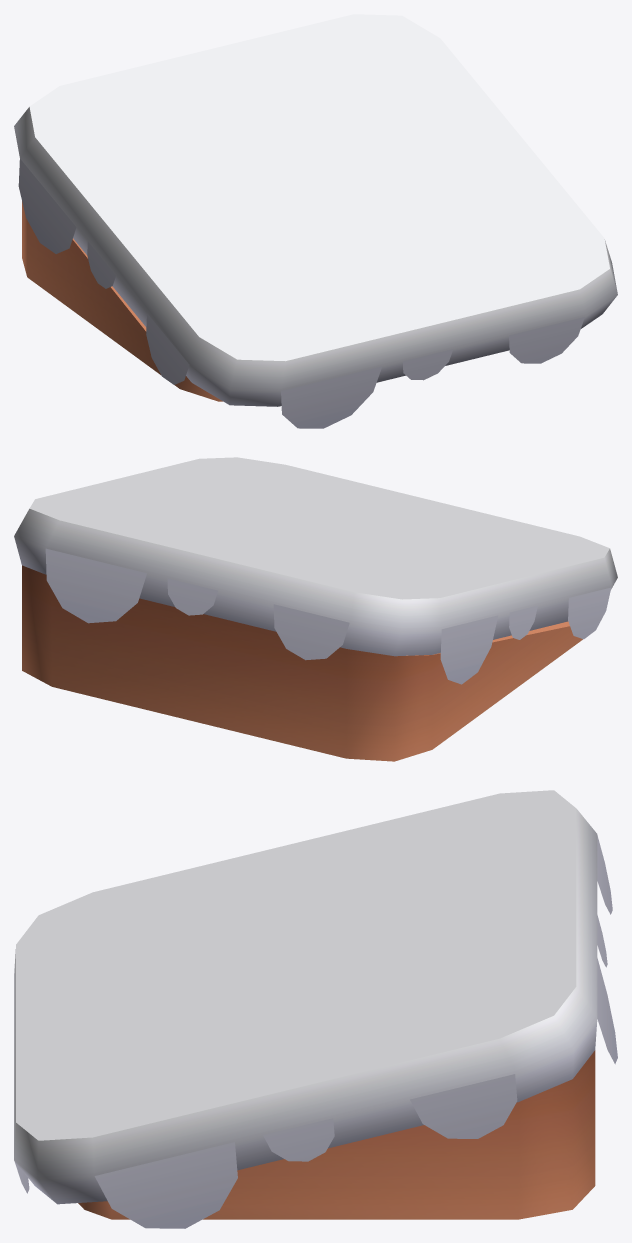
File: block-snow-overhang-large-slope.glb
3 views of the same model, one above another, from view 1: azimuth 30°, elevation 25°; view 2: azimuth 150°, elevation 25°; view 3: azimuth 270°, elevation 25° (orthographic). The views are drawn at different scales.
Parts seen in each view (by area): view 1: block-snow-overhang-large-slope; view 2: block-snow-overhang-large-slope; view 3: block-snow-overhang-large-slope.
Part boxes in pixels (x1=…): block-snow-overhang-large-slope: x1=14, y1=14, x2=617, y2=428; block-snow-overhang-large-slope: x1=14, y1=457, x2=617, y2=761; block-snow-overhang-large-slope: x1=14, y1=790, x2=617, y2=1228.
Bounding box in the file's own units: 2.08 × 0.9144 × 2.08.
1 material, 1 textured.
